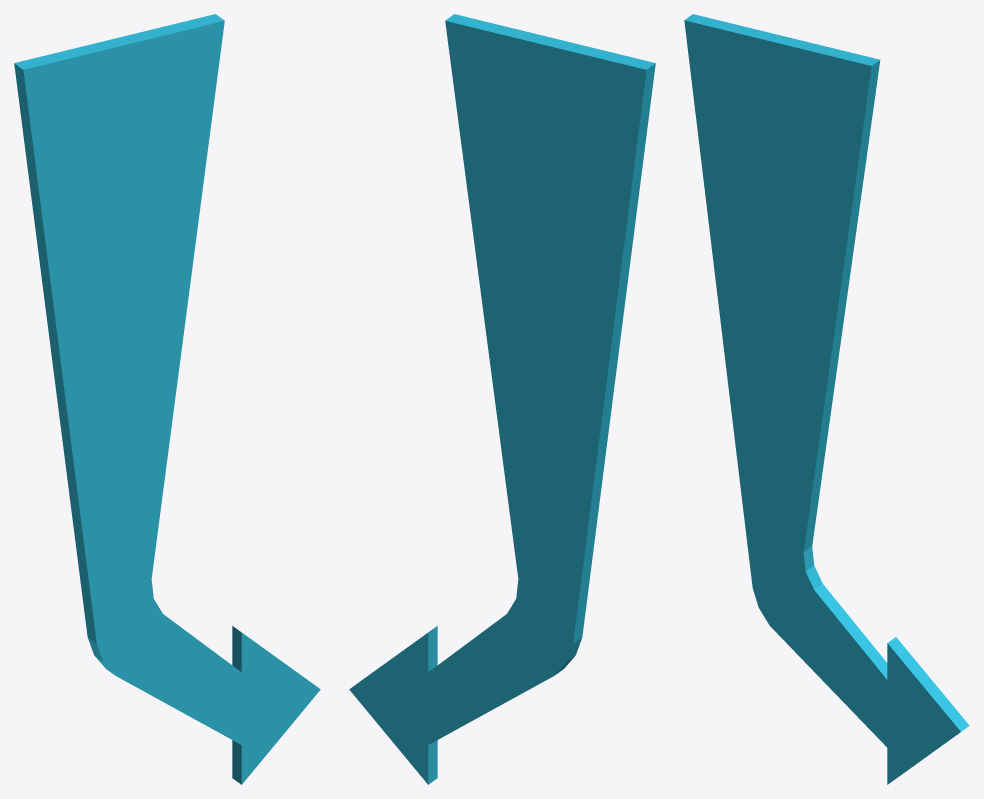
File: Arrow.fbx
3 views of the same model, side by side, from view 1: azimuth 30°, elevation 25°; view 2: azimuth 150°, elevation 25°; view 3: azimuth 330°, elevation 25° (orthographic). The views are drawn at different scales.
Visible parts, largest first — view 1: Arrow; view 2: Arrow; view 3: Arrow.
Part boxes in pixels (bbox=[...]): Arrow: bbox=[14, 14, 320, 784]; Arrow: bbox=[349, 14, 655, 784]; Arrow: bbox=[684, 14, 969, 784].
Size of the model in its own units: 0.042 by 0.7806 by 1.93.
